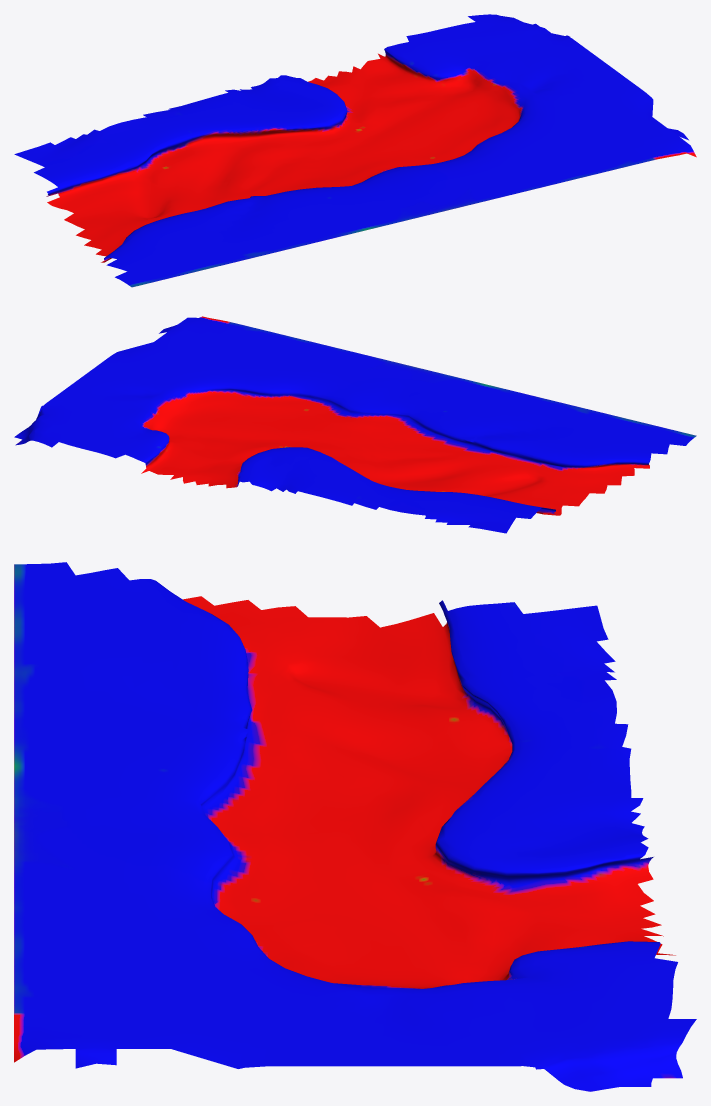
Rendered from split2.fbx.
3 renders of one model, top to bottom at view 1: azimuth 30°, elevation 25°; view 2: azimuth 150°, elevation 25°; view 3: azimuth 270°, elevation 25°, orthographic. The views are drawn at different scales.
Parts seen in each view (by area): view 1: Retopo_Plane.003; view 2: Retopo_Plane.003; view 3: Retopo_Plane.003.
Part boxes in pixels (x1,y1,x2,y2): Retopo_Plane.003: (14, 14, 696, 287); Retopo_Plane.003: (14, 316, 696, 533); Retopo_Plane.003: (14, 562, 696, 1091).
Size of the model in its own units: 455 by 11.97 by 260.
